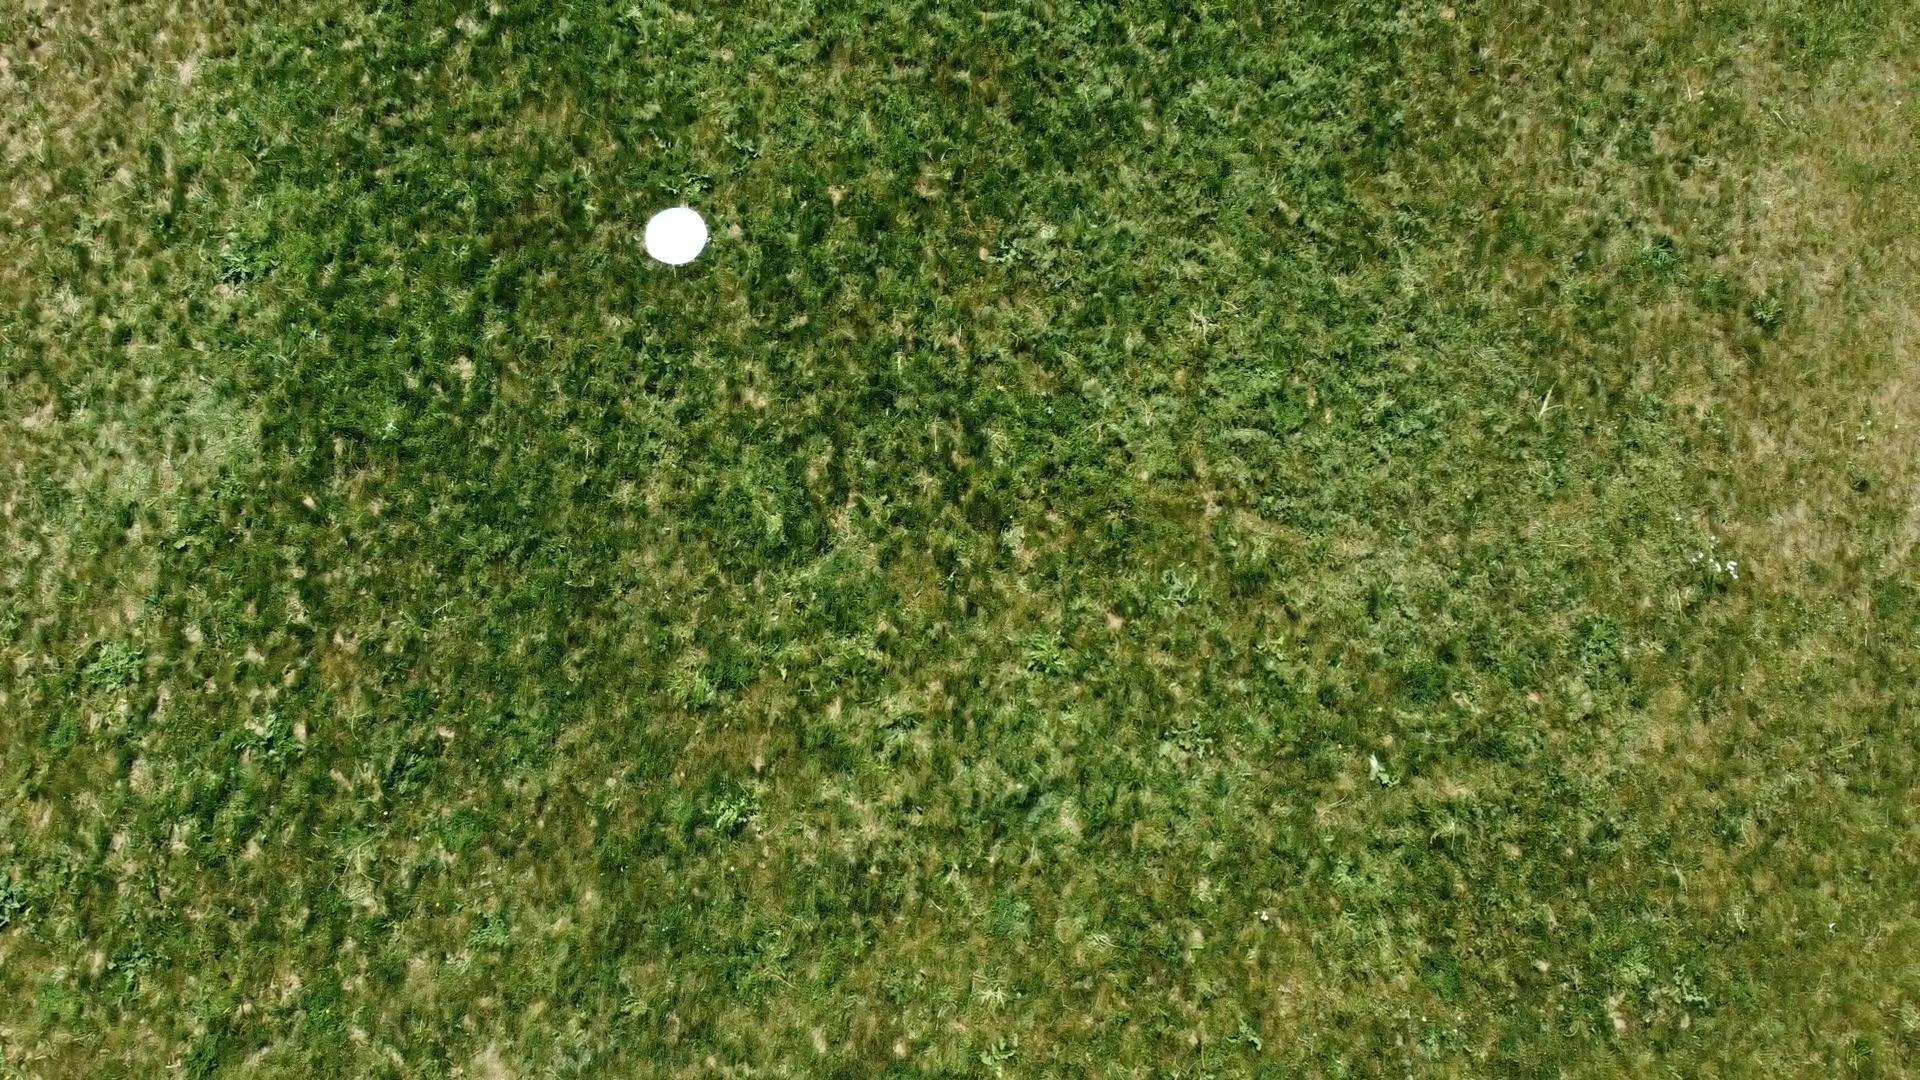Blue: (642, 202, 711, 268)
